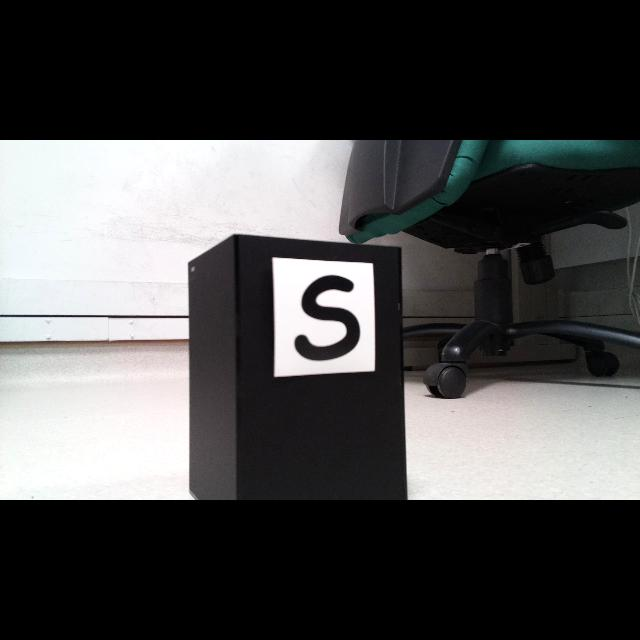S: (294, 275, 361, 362)
